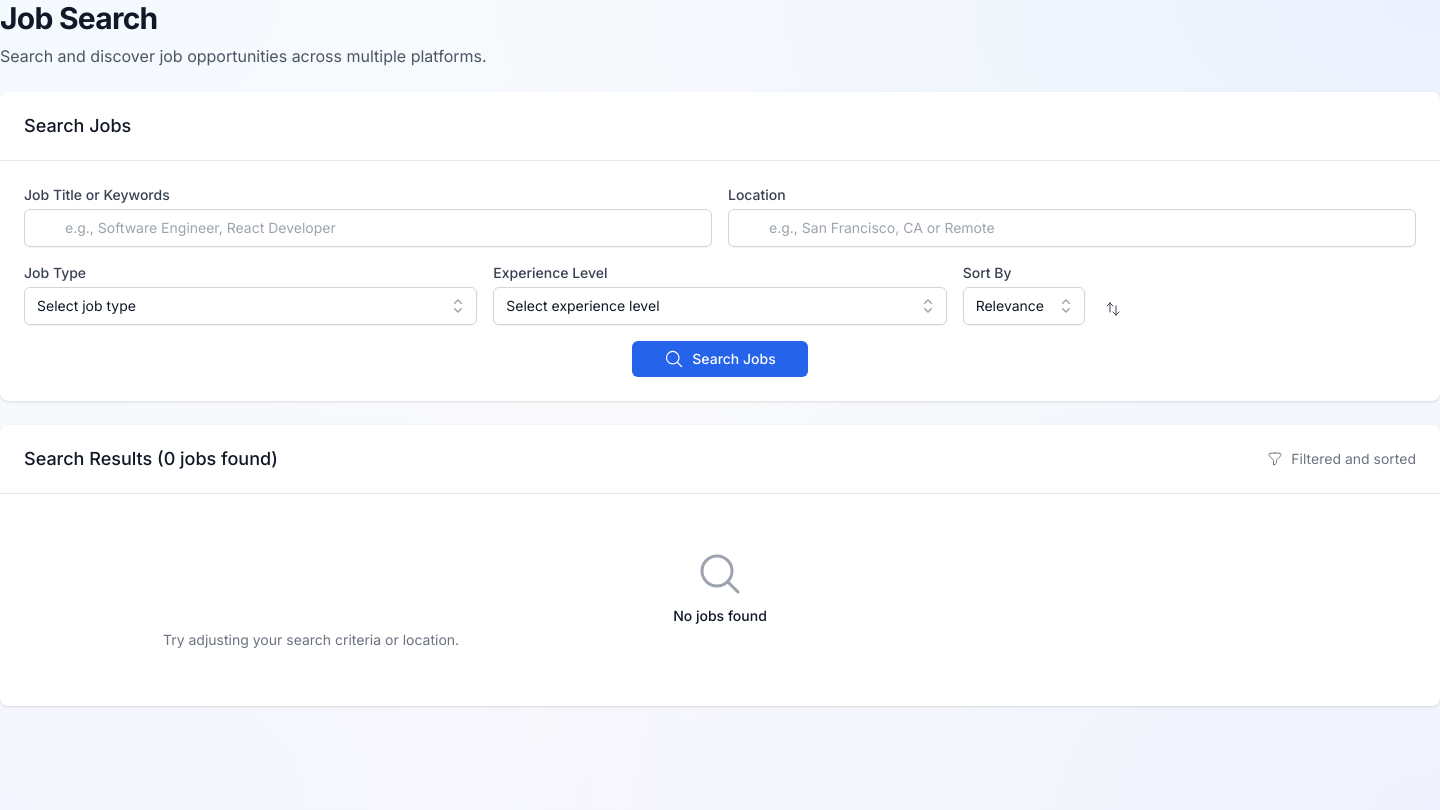
JobSearch Page › opens job details modal on click
Step 1. Type "Software Engineer" into the field with placeholder "e.g., Software Engineer, React Developer" → point(368, 228), box x1=24 y1=209 x2=712 y2=247
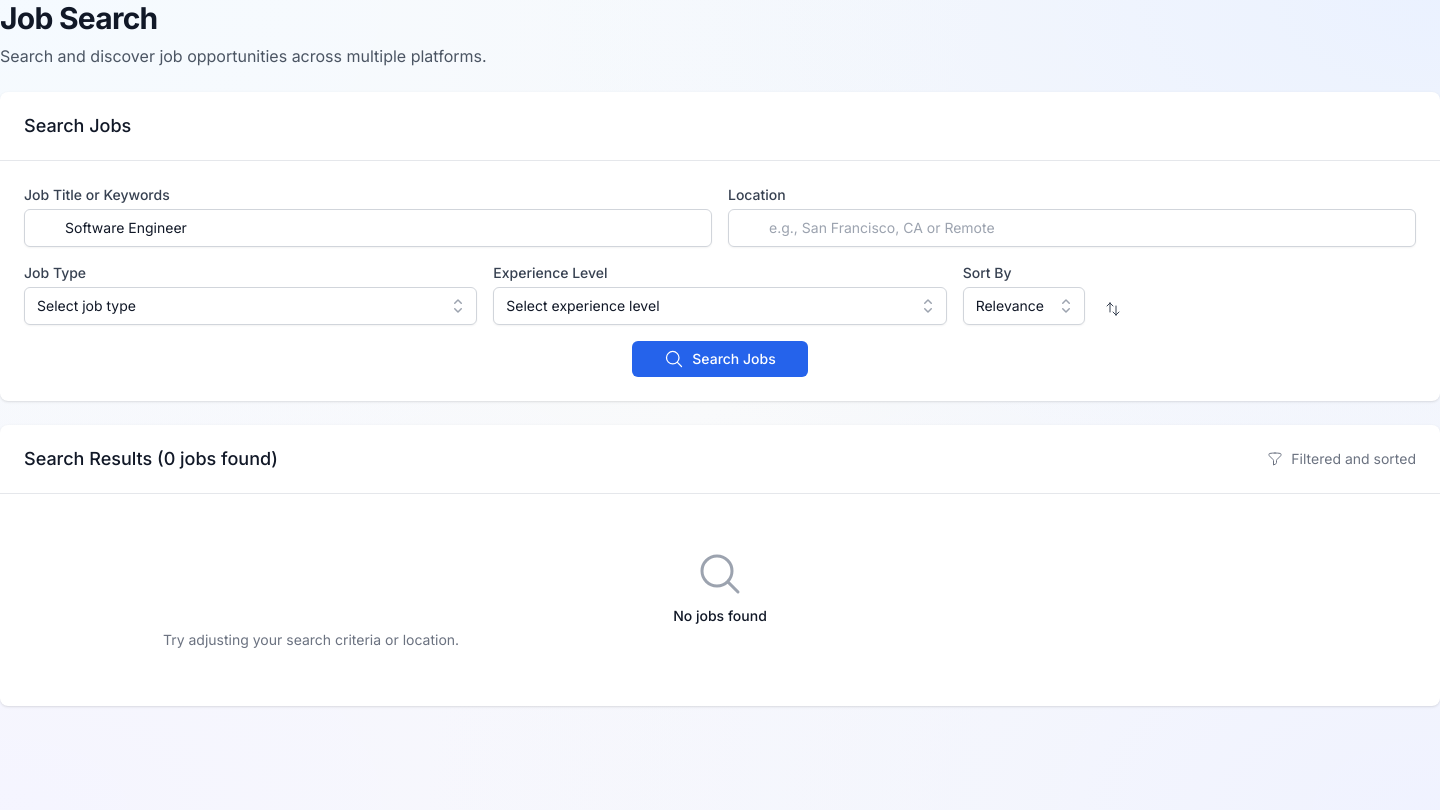
Step 2. Click the button "Search Jobs" → point(720, 359), box x1=632 y1=341 x2=808 y2=377
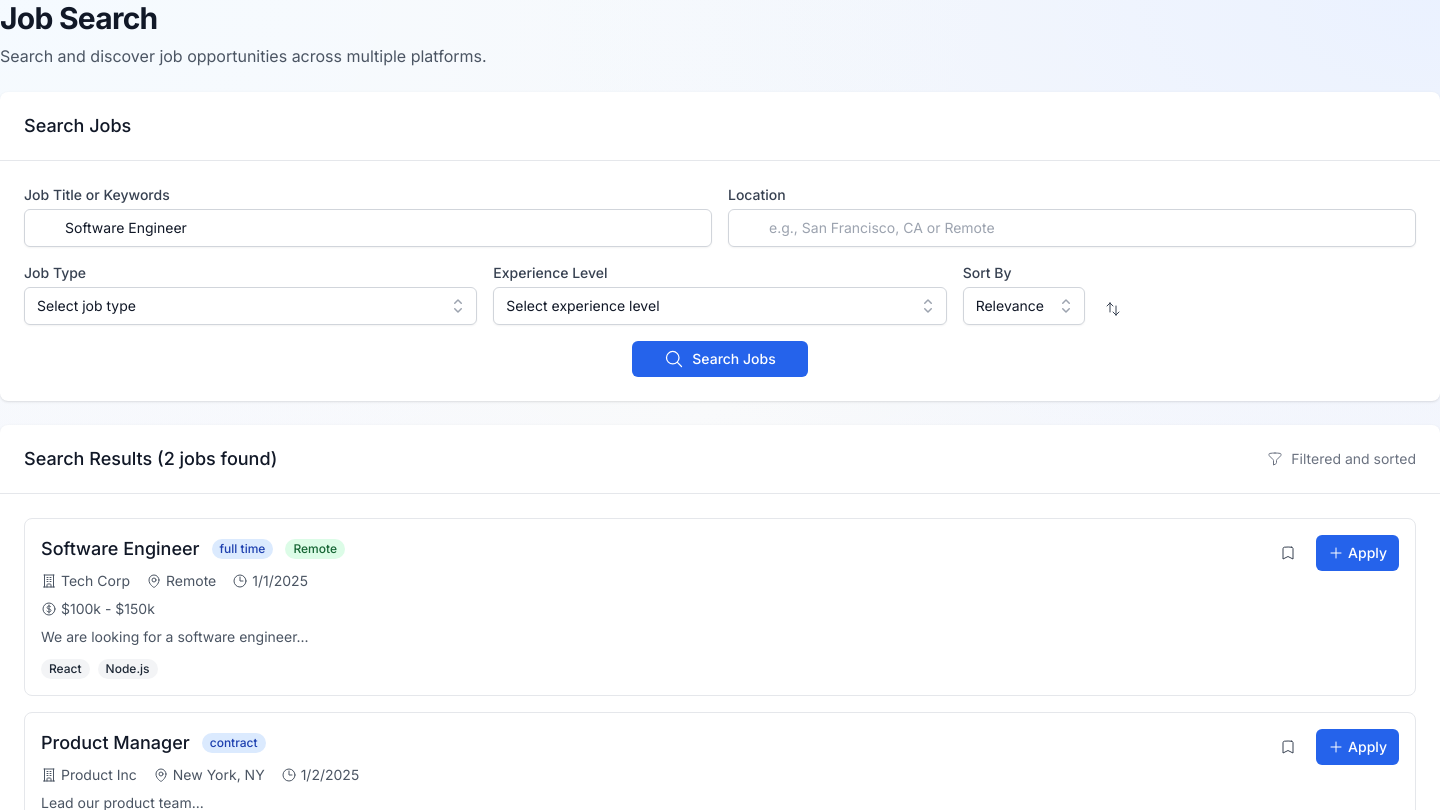
Now the heading "Software Engineer" is shown
Step 3. Click the heading "Software Engineer" → point(120, 549), box x1=41 y1=535 x2=200 y2=563
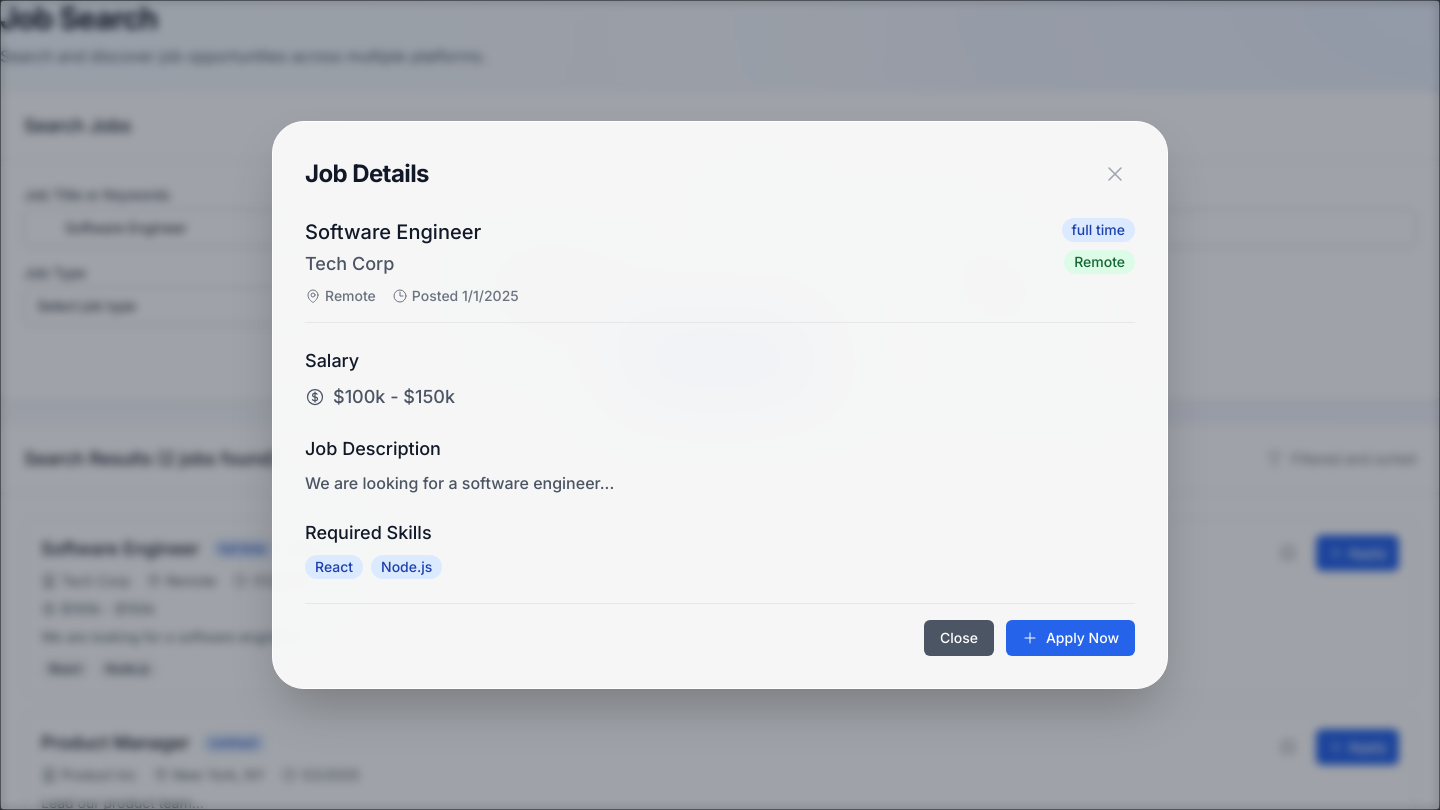
Now the dialog "Job Details" is shown
Now the text "We are looking for a software engineer..." is shown, box x1=305 y1=473 x2=614 y2=493
